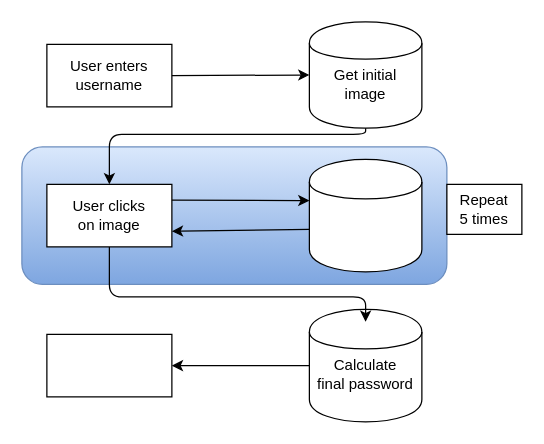
Some shapes in this 544 by 444 pixel diagram are drawn without their labels. Here are the shapes that lost their labels. From the top down, the centre of each, then its label:
(x=365, y=215): Calculate dataChain, get next image
(x=109, y=365): Authentication
